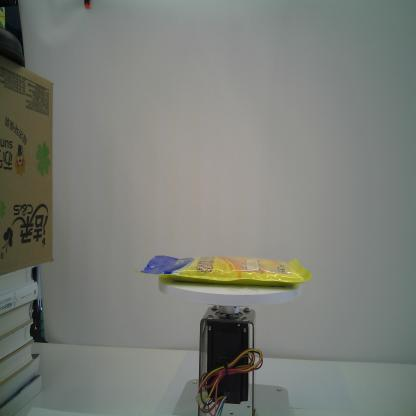Dried Fruit: (136, 251, 314, 293)
